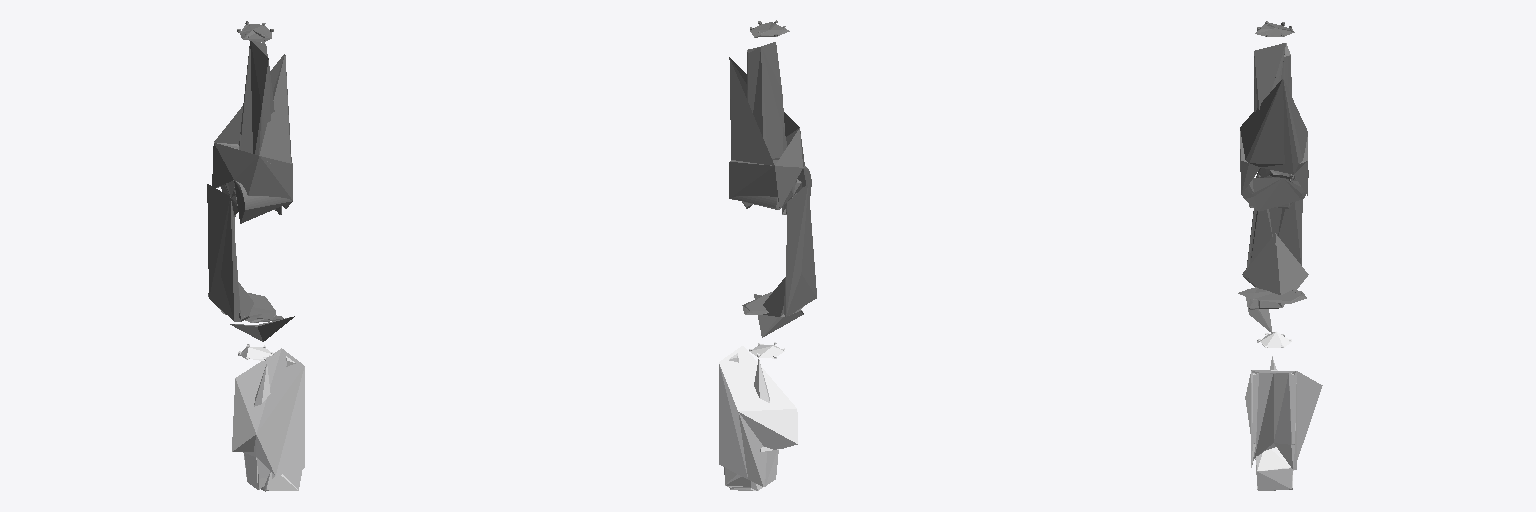
The robot description file, URDF, robot "arm":
<?xml version="1.0" ?>
<!-- =================================================================================== -->
<!-- |    This document was autogenerated by xacro from arm.xacro                      | -->
<!-- |    EDITING THIS FILE BY HAND IS NOT RECOMMENDED                                 | -->
<!-- =================================================================================== -->
<robot name="arm">
  <material name="silver_default">
    <color rgba="0.700 0.700 0.700 1.000"/>
  </material>
  <material name="opaque246246243">
    <color rgba="0.9647058823529412 0.9647058823529412 0.9529411764705882 1.0"/>
  </material>
  <material name="opaque137137137">
    <color rgba="0.5372549019607843 0.5372549019607843 0.5372549019607843 1.0"/>
  </material>
  <material name="opaque245245246">
    <color rgba="0.9607843137254902 0.9607843137254902 0.9647058823529412 1.0"/>
  </material>
  <material name="opaque636363">
    <color rgba="0.24705882352941178 0.24705882352941178 0.24705882352941178 1.0"/>
  </material>
  <transmission name="Revolute 1_tran">
    <type>transmission_interface/SimpleTransmission</type>
    <joint name="Revolute 1">
      <hardwareInterface>hardware_interface/EffortJointInterface</hardwareInterface>
    </joint>
    <actuator name="Revolute 1_actr">
      <hardwareInterface>hardware_interface/EffortJointInterface</hardwareInterface>
      <mechanicalReduction>1</mechanicalReduction>
    </actuator>
  </transmission>
  <transmission name="Revolute 4_tran">
    <type>transmission_interface/SimpleTransmission</type>
    <joint name="Revolute 4">
      <hardwareInterface>hardware_interface/EffortJointInterface</hardwareInterface>
    </joint>
    <actuator name="Revolute 4_actr">
      <hardwareInterface>hardware_interface/EffortJointInterface</hardwareInterface>
      <mechanicalReduction>1</mechanicalReduction>
    </actuator>
  </transmission>
  <transmission name="Revolute 5_tran">
    <type>transmission_interface/SimpleTransmission</type>
    <joint name="Revolute 5">
      <hardwareInterface>hardware_interface/EffortJointInterface</hardwareInterface>
    </joint>
    <actuator name="Revolute 5_actr">
      <hardwareInterface>hardware_interface/EffortJointInterface</hardwareInterface>
      <mechanicalReduction>1</mechanicalReduction>
    </actuator>
  </transmission>
  <transmission name="Revolute 6_tran">
    <type>transmission_interface/SimpleTransmission</type>
    <joint name="Revolute 6">
      <hardwareInterface>hardware_interface/EffortJointInterface</hardwareInterface>
    </joint>
    <actuator name="Revolute 6_actr">
      <hardwareInterface>hardware_interface/EffortJointInterface</hardwareInterface>
      <mechanicalReduction>1</mechanicalReduction>
    </actuator>
  </transmission>
  <transmission name="Revolute 7_tran">
    <type>transmission_interface/SimpleTransmission</type>
    <joint name="Revolute 7">
      <hardwareInterface>hardware_interface/EffortJointInterface</hardwareInterface>
    </joint>
    <actuator name="Revolute 7_actr">
      <hardwareInterface>hardware_interface/EffortJointInterface</hardwareInterface>
      <mechanicalReduction>1</mechanicalReduction>
    </actuator>
  </transmission>
  <transmission name="Revolute 2_tran">
    <type>transmission_interface/SimpleTransmission</type>
    <joint name="Revolute 2">
      <hardwareInterface>hardware_interface/EffortJointInterface</hardwareInterface>
    </joint>
    <actuator name="Revolute 2_actr">
      <hardwareInterface>hardware_interface/EffortJointInterface</hardwareInterface>
      <mechanicalReduction>1</mechanicalReduction>
    </actuator>
  </transmission>
  <transmission name="Revolute 3_tran">
    <type>transmission_interface/SimpleTransmission</type>
    <joint name="Revolute 3">
      <hardwareInterface>hardware_interface/EffortJointInterface</hardwareInterface>
    </joint>
    <actuator name="Revolute 3_actr">
      <hardwareInterface>hardware_interface/EffortJointInterface</hardwareInterface>
      <mechanicalReduction>1</mechanicalReduction>
    </actuator>
  </transmission>
  <link name="base_link">
    <inertial>
      <origin rpy="0 0 0" xyz="-0.009942227184627048 0.020064034929943905 0.025972235101489"/>
      <mass value="2.396454495108003"/>
      <inertia ixx="0.003847" ixy="2.8e-05" ixz="0.000853" iyy="0.004002" iyz="-3e-05" izz="0.002056"/>
    </inertial>
    <visual>
      <origin rpy="0 0 0" xyz="0 0 0"/>
      <geometry>
        <mesh filename="../meshes/base_link.stl" scale="0.001 0.001 0.001"/>
      </geometry>
      <material name="opaque246246243"/>
    </visual>
    <collision>
      <origin rpy="0 0 0" xyz="0 0 0"/>
      <geometry>
        <mesh filename="../meshes/base_link.stl" scale="0.001 0.001 0.001"/>
      </geometry>
    </collision>
  </link>
  <link name="shoulder_link1_1">
    <inertial>
      <origin rpy="0 0 0" xyz="-0.0020200896062955607 0.023458948168524774 -0.06706841096353515"/>
      <mass value="2.2163231597838595"/>
      <inertia ixx="0.00428" ixy="3e-06" ixz="-4e-05" iyy="0.00357" iyz="-0.000152" izz="0.001583"/>
    </inertial>
    <visual>
      <origin rpy="0 0 0" xyz="-0.0 0.0 -0.0"/>
      <geometry>
        <mesh filename="../meshes/shoulder_link1_1.stl" scale="0.001 0.001 0.001"/>
      </geometry>
      <material name="opaque246246243"/>
    </visual>
    <collision>
      <origin rpy="0 0 0" xyz="-0.0 0.0 -0.0"/>
      <geometry>
        <mesh filename="../meshes/shoulder_link1_1.stl" scale="0.001 0.001 0.001"/>
      </geometry>
    </collision>
  </link>
  <link name="elbow_link2_1">
    <inertial>
      <origin rpy="0 0 0" xyz="-0.015464274394364036 0.0002531767802088289 -0.0859377108374576"/>
      <mass value="2.501216447076231"/>
      <inertia ixx="0.005233" ixy="1.4e-05" ixz="-0.000109" iyy="0.006014" iyz="1e-06" izz="0.002048"/>
    </inertial>
    <visual>
      <origin rpy="0 0 0" xyz="-0.019772 -0.020884 0.330118"/>
      <geometry>
        <mesh filename="../meshes/elbow_link2_1_low.stl" scale="0.001 0.001 0.001"/>
      </geometry>
      <material name="opaque137137137"/>
    </visual>
    <collision>
      <origin rpy="0 0 0" xyz="-0.019772 -0.020884 0.330118"/>
      <geometry>
        <mesh filename="../meshes/elbow_link2_1_low.stl" scale="0.001 0.001 0.001"/>
      </geometry>
    </collision>
  </link>
  <link name="wrist_link_1">
    <inertial>
      <origin rpy="0 0 0" xyz="0.0065525949429251565 -7.151574951981196e-05 -0.05054096490230148"/>
      <mass value="1.6086215800000232"/>
      <inertia ixx="0.002472" ixy="2e-06" ixz="0.000402" iyy="0.002637" iyz="-3e-06" izz="0.000726"/>
    </inertial>
    <visual>
      <origin rpy="0 0 0" xyz="-0.0009 -0.021225 0.486339"/>
      <geometry>
        <mesh filename="../meshes/wrist_link_1_low.stl" scale="0.001 0.001 0.001"/>
      </geometry>
      <material name="opaque245245246"/>
    </visual>
    <collision>
      <origin rpy="0 0 0" xyz="-0.0009 -0.021225 0.486339"/>
      <geometry>
        <mesh filename="../meshes/wrist_link_1_low.stl" scale="0.001 0.001 0.001"/>
      </geometry>
    </collision>
  </link>
  <link name="hand1_1">
    <inertial>
      <origin rpy="0 0 0" xyz="-0.034498767587359806 0.020017116621166668 -0.05964944263936478"/>
      <mass value="1.5629058767642119"/>
      <inertia ixx="0.00275" ixy="-6e-06" ixz="-0.00066" iyy="0.002992" iyz="-1.2e-05" izz="0.000866"/>
    </inertial>
    <visual>
      <origin rpy="0 0 0" xyz="-0.037254 -0.002265 0.592574"/>
      <geometry>
        <mesh filename="../meshes/hand1_1.stl" scale="0.001 0.001 0.001"/>
      </geometry>
      <material name="opaque636363"/>
    </visual>
    <collision>
      <origin rpy="0 0 0" xyz="-0.037254 -0.002265 0.592574"/>
      <geometry>
        <mesh filename="../meshes/hand1_1.stl" scale="0.001 0.001 0.001"/>
      </geometry>
    </collision>
  </link>
  <link name="hand2_1">
    <inertial>
      <origin rpy="0 0 0" xyz="-0.01040695508919266 0.019307989916875906 -0.04879276359391038"/>
      <mass value="0.6693428444848912"/>
      <inertia ixx="0.000698" ixy="-3e-06" ixz="-5.2e-05" iyy="0.000597" iyz="-7e-06" izz="0.000165"/>
    </inertial>
    <visual>
      <origin rpy="0 0 0" xyz="-0.024755 -0.002991 0.641193"/>
      <geometry>
        <mesh filename="../meshes/hand2_1.stl" scale="0.001 0.001 0.001"/>
      </geometry>
      <material name="opaque245245246"/>
    </visual>
    <collision>
      <origin rpy="0 0 0" xyz="-0.024755 -0.002991 0.641193"/>
      <geometry>
        <mesh filename="../meshes/hand2_1.stl" scale="0.001 0.001 0.001"/>
      </geometry>
    </collision>
  </link>
  <link name="shoulder_link2_1">
    <inertial>
      <origin rpy="0 0 0" xyz="0.025085901149047445 -0.0004898024402024553 -0.05090240468378998"/>
      <mass value="1.7846079164526971"/>
      <inertia ixx="0.002118" ixy="6e-06" ixz="-7.7e-05" iyy="0.002476" iyz="1e-06" izz="0.001313"/>
    </inertial>
    <visual>
      <origin rpy="0 0 0" xyz="0.021747 -0.021634 0.091118"/>
      <geometry>
        <mesh filename="../meshes/shoulder_link2_1.stl" scale="0.001 0.001 0.001"/>
      </geometry>
      <material name="opaque137137137"/>
    </visual>
    <collision>
      <origin rpy="0 0 0" xyz="0.021747 -0.021634 0.091118"/>
      <geometry>
        <mesh filename="../meshes/shoulder_link2_1.stl" scale="0.001 0.001 0.001"/>
      </geometry>
    </collision>
  </link>
  <link name="elbow_link1_1">
    <inertial>
      <origin rpy="0 0 0" xyz="-2.8668518769238874e-05 -2.5267618562929e-05 -0.10371499274239299"/>
      <mass value="2.526187654854094"/>
      <inertia ixx="0.00722" ixy="0.0" ixz="2.7e-05" iyy="0.007178" iyz="-4e-06" izz="0.001143"/>
    </inertial>
    <visual>
      <origin rpy="0 0 0" xyz="0.0 -0.021241 0.174618"/>
      <geometry>
        <mesh filename="../meshes/elbow_link1_1_low.stl" scale="0.001 0.001 0.001"/>
      </geometry>
      <material name="opaque137137137"/>
    </visual>
    <collision>
      <origin rpy="0 0 0" xyz="0.0 -0.021241 0.174618"/>
      <geometry>
        <mesh filename="../meshes/elbow_link1_1_low.stl" scale="0.001 0.001 0.001"/>
      </geometry>
    </collision>
  </link>
  <joint name="Revolute 1" type="revolute">
    <origin rpy="0 0 0" xyz="0.0 0.0 0.0"/>
    <parent link="base_link"/>
    <child link="shoulder_link1_1"/>
    <axis xyz="0.0 1.0 0.0"/>
    <limit effort="100" lower="-1.745329" upper="1.570796" velocity="100"/>
  </joint>
  <joint name="Revolute 4" type="revolute">
    <origin rpy="0 0 0" xyz="0.019772 -0.000357 -0.1555"/>
    <parent link="elbow_link1_1"/>
    <child link="elbow_link2_1"/>
    <axis xyz="0.999837 -0.018051 0.0"/>
    <limit effort="100" lower="-1.570796" upper="1.570796" velocity="100"/>
  </joint>
  <joint name="Revolute 5" type="revolute">
    <origin rpy="0 0 0" xyz="-0.018872 0.000341 -0.156221"/>
    <parent link="elbow_link2_1"/>
    <child link="wrist_link_1"/>
    <axis xyz="0.0 0.0 -1.0"/>
    <limit effort="100" lower="-3.141593" upper="3.141593" velocity="100"/>
  </joint>
  <joint name="Revolute 6" type="revolute">
    <origin rpy="0 0 0" xyz="0.036354 -0.01896 -0.106235"/>
    <parent link="wrist_link_1"/>
    <child link="hand1_1"/>
    <axis xyz="-0.018051 -0.999837 -0.0"/>
    <limit effort="100" lower="0.0" upper="2.617994" velocity="100"/>
  </joint>
  <joint name="Revolute 7" type="revolute">
    <origin rpy="0 0 0" xyz="-0.012499 0.000726 -0.048619"/>
    <parent link="hand1_1"/>
    <child link="hand2_1"/>
    <axis xyz="-0.018051 -0.999837 -0.0"/>
    <limit effort="100" lower="0.0" upper="1.047198" velocity="100"/>
  </joint>
  <joint name="Revolute 2" type="revolute">
    <origin rpy="0 0 0" xyz="-0.021747 0.021634 -0.091118"/>
    <parent link="shoulder_link1_1"/>
    <child link="shoulder_link2_1"/>
    <axis xyz="-0.999837 0.018051 -0.0"/>
    <limit effort="100" lower="-1.570796" upper="1.570796" velocity="100"/>
  </joint>
  <joint name="Revolute 3" type="revolute">
    <origin rpy="0 0 0" xyz="0.021747 -0.000393 -0.0835"/>
    <parent link="shoulder_link2_1"/>
    <child link="elbow_link1_1"/>
    <axis xyz="-0.0 -0.0 -1.0"/>
    <limit effort="100" lower="-3.141593" upper="3.141593" velocity="100"/>
  </joint>
</robot>

--- What the picture shows (computed from the rendered views, not written in the file) ---
Views: 3 orthographic renders of the robot side by side, from view 1: azimuth 30°, elevation 25°; view 2: azimuth 150°, elevation 25°; view 3: azimuth 270°, elevation 25°.
Robot: arm — 8 links, 7 joints (7 revolute); root link base_link; default pose: all joints at 0.
Links seen in each view (by area): view 1: elbow_link1_1, wrist_link_1, elbow_link2_1; view 2: elbow_link1_1, wrist_link_1, elbow_link2_1; view 3: elbow_link1_1, wrist_link_1, elbow_link2_1.
Boxes of the visible links, x1,y1,x2,y2 form: elbow_link1_1: (212,21,292,223); wrist_link_1: (232,344,304,491); elbow_link2_1: (207,181,294,341); elbow_link1_1: (729,20,811,209); wrist_link_1: (719,342,797,490); elbow_link2_1: (742,179,816,337); elbow_link1_1: (1240,21,1308,211); wrist_link_1: (1245,331,1322,490); elbow_link2_1: (1238,168,1308,333).
Bounding box of the posed robot: 0.0699 × 0.0728 × 0.4231 m (x, y, z).
Meshes: 8 distinct files referenced, 3 mesh visuals loaded (3 binary STL); not drawn: 5 (file found but could not be loaded).